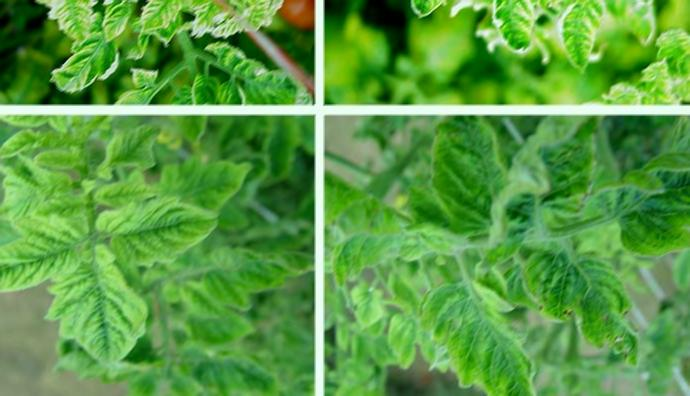Tomato mold leaf: (403, 269, 544, 396), (45, 246, 162, 371), (90, 196, 235, 273), (429, 115, 515, 240), (0, 218, 88, 306)
